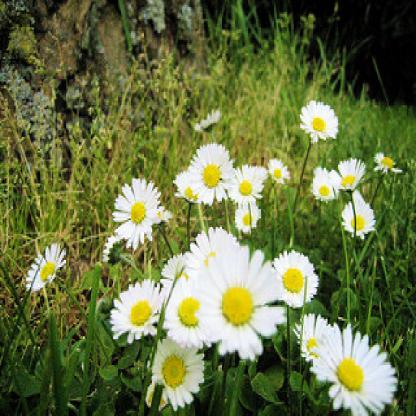ASTER: (14, 98, 416, 415)
